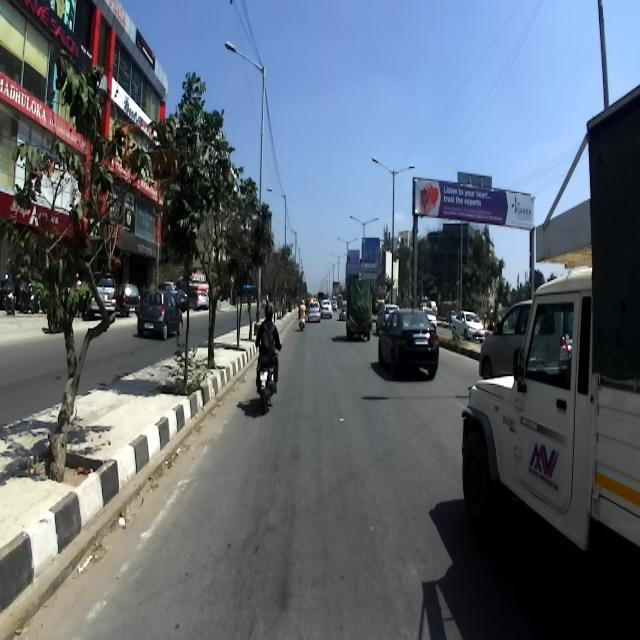car ahead at: (376, 303, 444, 383)
truck ahead at: (458, 107, 640, 576)
